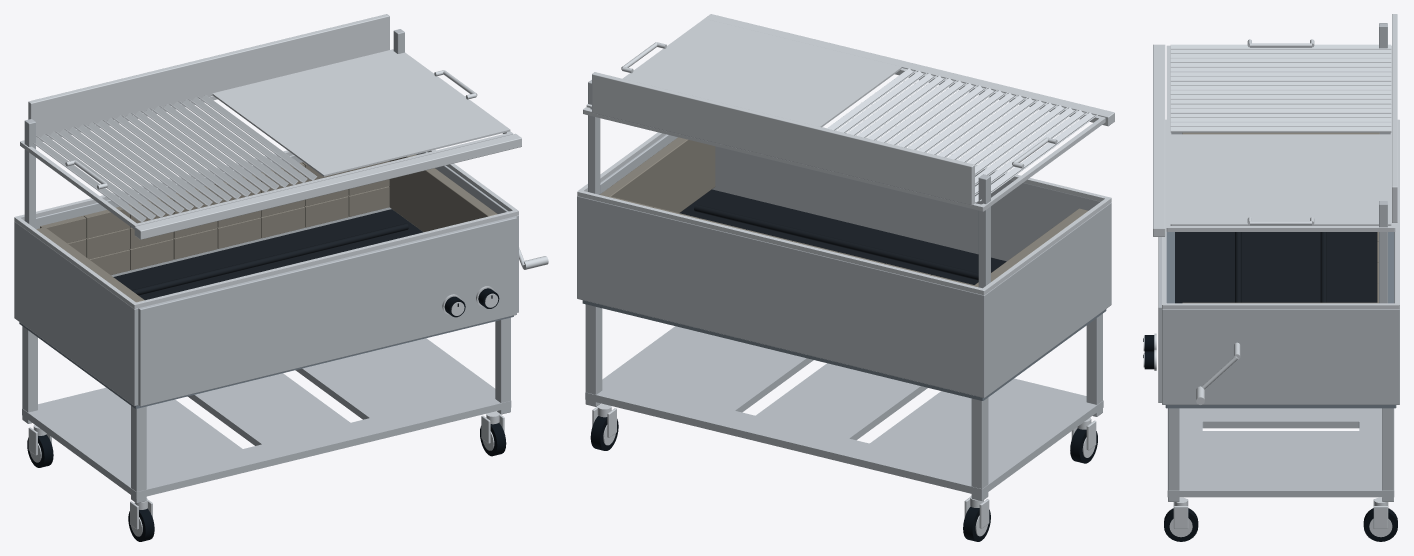
File: parrilla-premium-plancha-y-parrilla-a-carbon-v1.glb
3 renders of one model, left to right at view 1: azimuth 30°, elevation 25°; view 2: azimuth 150°, elevation 25°; view 3: azimuth 270°, elevation 25°, orthographic. The views are drawn at different scales.
Visible parts, largest first — view 1: Acero_satinado, Acero_pulido, Refractario_gris, Cavidades_y_fundicion, Mandos_y_goma, Interior_acero; view 2: Acero_satinado, Acero_pulido, Cavidades_y_fundicion, Refractario_gris, Interior_acero, Mandos_y_goma; view 3: Acero_pulido, Acero_satinado, Cavidades_y_fundicion, Interior_acero, Mandos_y_goma, Refractario_gris.
Boxes of the visible parts, x1,y1,x2,y2 form: Acero_satinado: [14, 29, 518, 503]; Acero_pulido: [14, 14, 548, 536]; Refractario_gris: [36, 154, 497, 302]; Cavidades_y_fundicion: [113, 209, 492, 306]; Mandos_y_goma: [27, 288, 506, 541]; Interior_acero: [19, 315, 513, 408]; Acero_satinado: [577, 80, 1111, 500]; Acero_pulido: [577, 14, 1114, 536]; Cavidades_y_fundicion: [679, 189, 1006, 284]; Refractario_gris: [600, 137, 1088, 287]; Interior_acero: [582, 300, 1106, 400]; Mandos_y_goma: [590, 416, 1097, 541]; Acero_pulido: [1143, 14, 1399, 537]; Acero_satinado: [1158, 23, 1399, 501]; Cavidades_y_fundicion: [1143, 232, 1377, 357]; Interior_acero: [1165, 232, 1396, 408]; Mandos_y_goma: [1144, 335, 1397, 541]; Refractario_gris: [1182, 132, 1379, 303].
Bounding box in the file's own units: 1.35 × 1.07 × 0.702.
